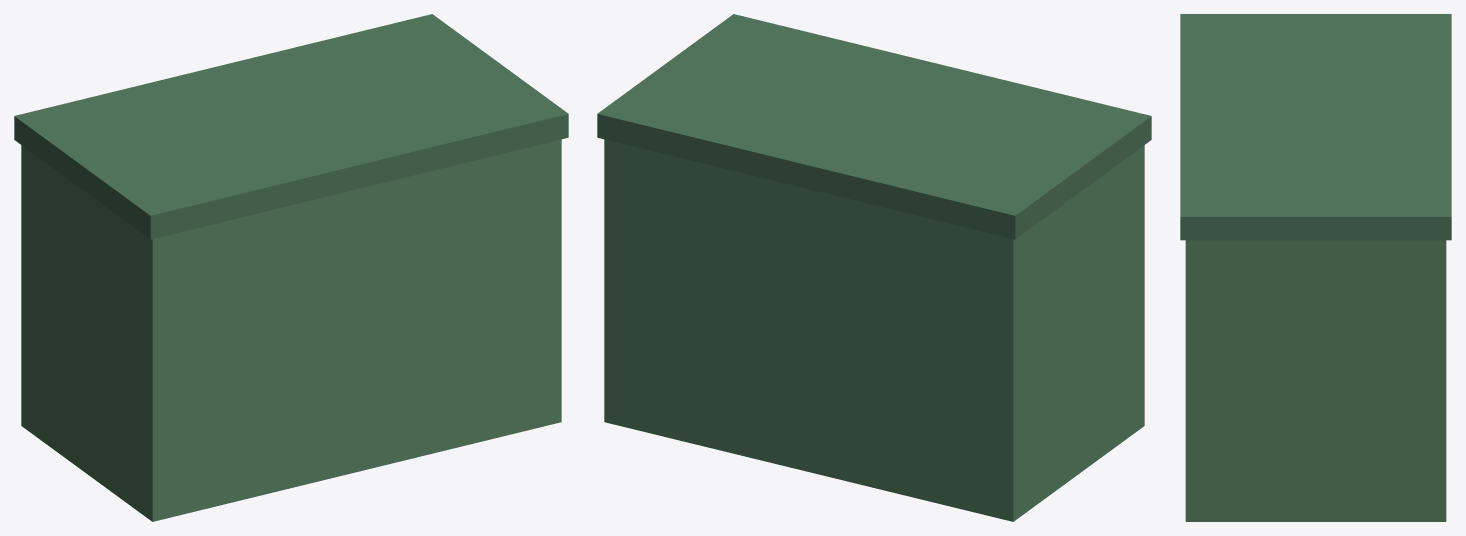
File: dumpster.gltf
3 renders of one model, left to right at view 1: azimuth 30°, elevation 25°; view 2: azimuth 150°, elevation 25°; view 3: azimuth 270°, elevation 25°, orthographic.
Visible parts, largest first — view 1: dumpster; view 2: dumpster; view 3: dumpster.
Part boxes in pixels (bbox=[...]): dumpster: bbox=[14, 14, 568, 521]; dumpster: bbox=[597, 14, 1151, 521]; dumpster: bbox=[1180, 14, 1451, 521].
Size of the model in its own units: 1.84 by 1.3 by 1.04.
